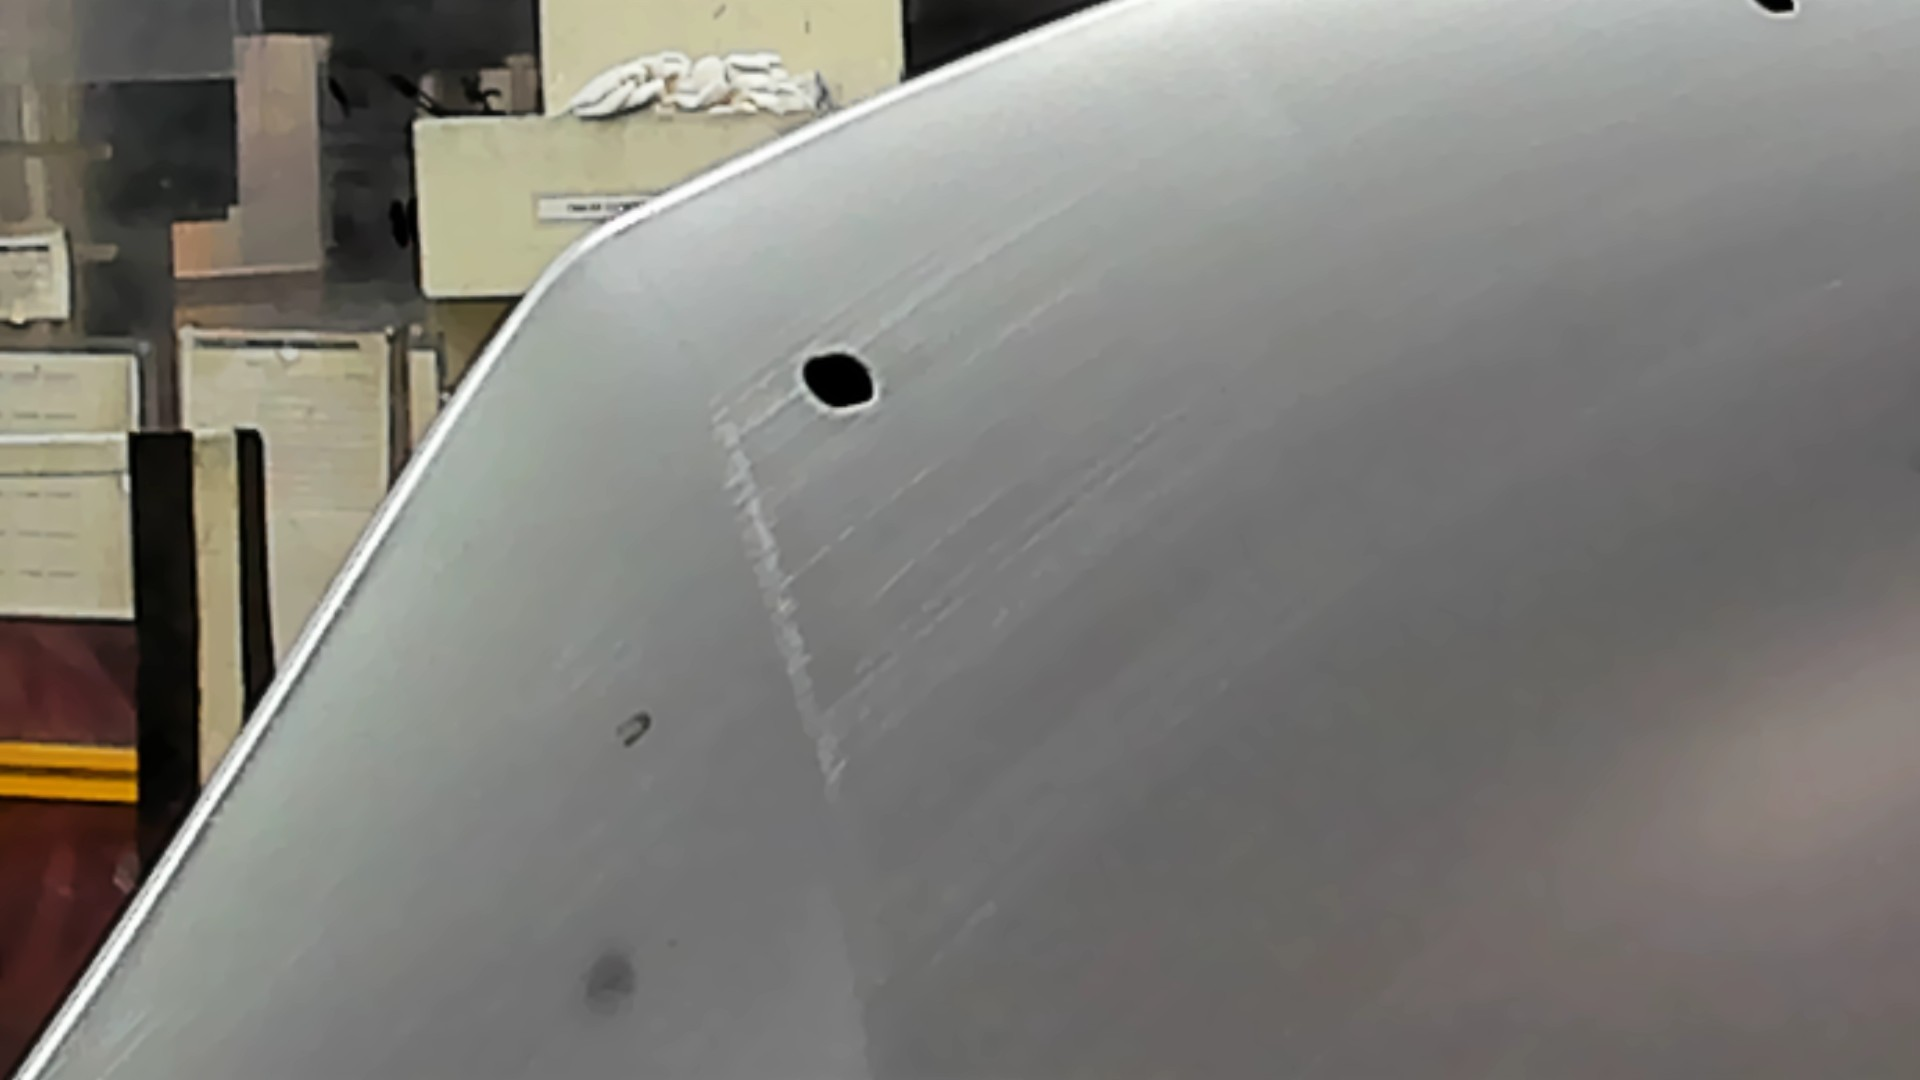amorfo: (789, 342, 887, 415)
capo: (943, 94, 1920, 1080)
